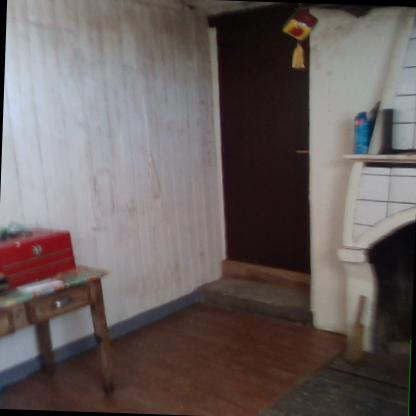closed: (189, 2, 319, 332)
